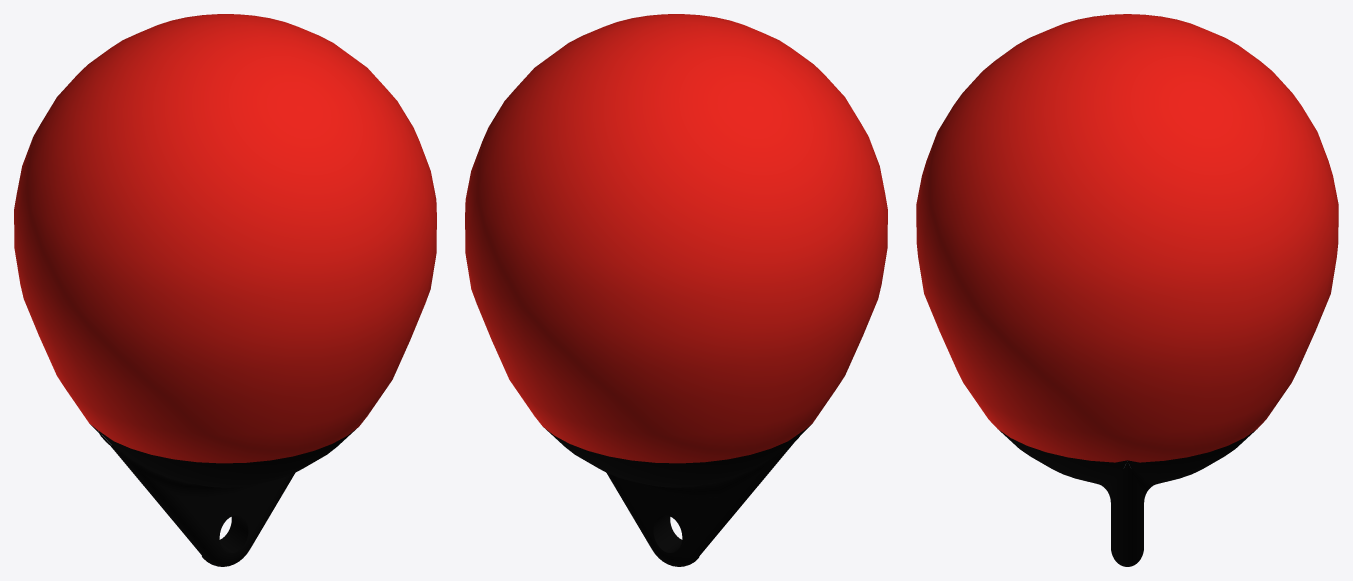
Rendered from buoy_24.dae.
The picture shows the model from 3 angles, left to right: view 1: azimuth 30°, elevation 25°; view 2: azimuth 150°, elevation 25°; view 3: azimuth 270°, elevation 25°; orthographic projection.
Parts seen in each view (by area): view 1: ID2; view 2: ID2; view 3: ID2.
Boxes of the visible parts, box(x1,y1,x2,y2) form: ID2: box(14, 14, 436, 566); ID2: box(465, 14, 887, 566); ID2: box(916, 14, 1338, 566).
Bounding box in the file's own units: 0.3034 × 0.3036 × 0.4212.
